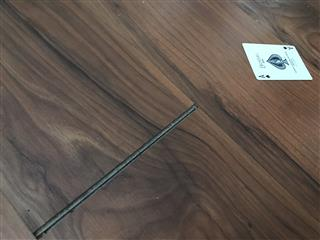AceOfSpades: (241, 42, 313, 80)
